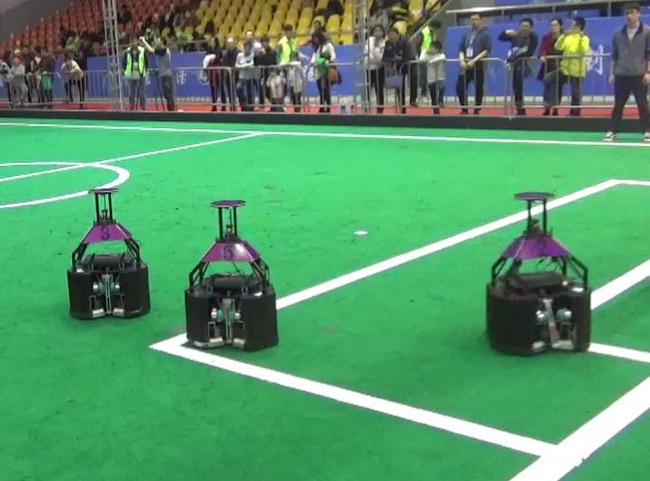robot: (481, 189, 596, 360), (182, 195, 281, 354), (61, 188, 154, 324)
